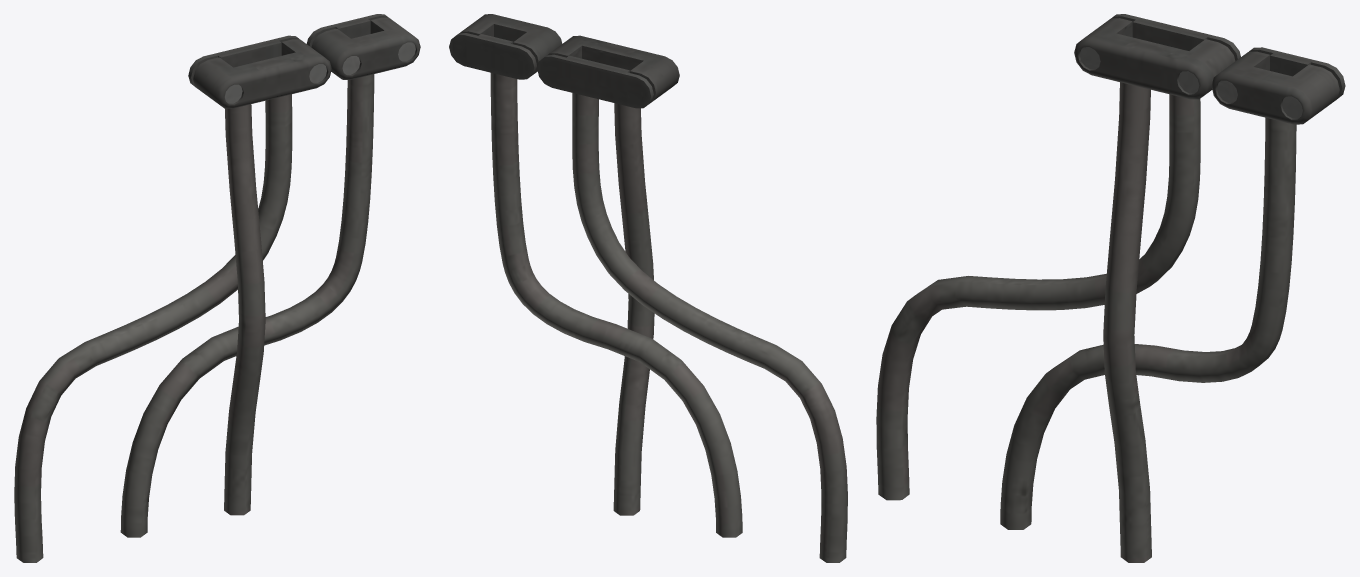
File: cable_3way_junction.gltf
The picture shows the model from 3 angles, left to right: view 1: azimuth 30°, elevation 25°; view 2: azimuth 150°, elevation 25°; view 3: azimuth 330°, elevation 25°; orthographic projection. The views are drawn at different scales.
Parts seen in each view (by area): view 1: cable_3way_junction; view 2: cable_3way_junction; view 3: cable_3way_junction.
Boxes of the visible parts, x1,y1,x2,y2 form: cable_3way_junction: (14, 14, 420, 562); cable_3way_junction: (449, 14, 847, 562); cable_3way_junction: (876, 14, 1345, 562).
Bounding box in the file's own units: 0.1872 × 0.2087 × 0.0285.
Materials: 1 (1 with a texture image).
